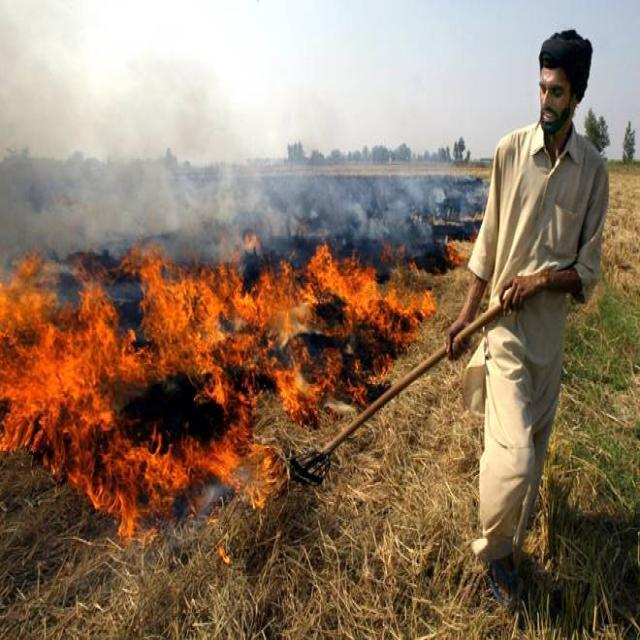Fire: (2, 280, 122, 466), (276, 252, 394, 419), (138, 264, 268, 404), (124, 436, 272, 540)
Smoke: (7, 136, 434, 236)
